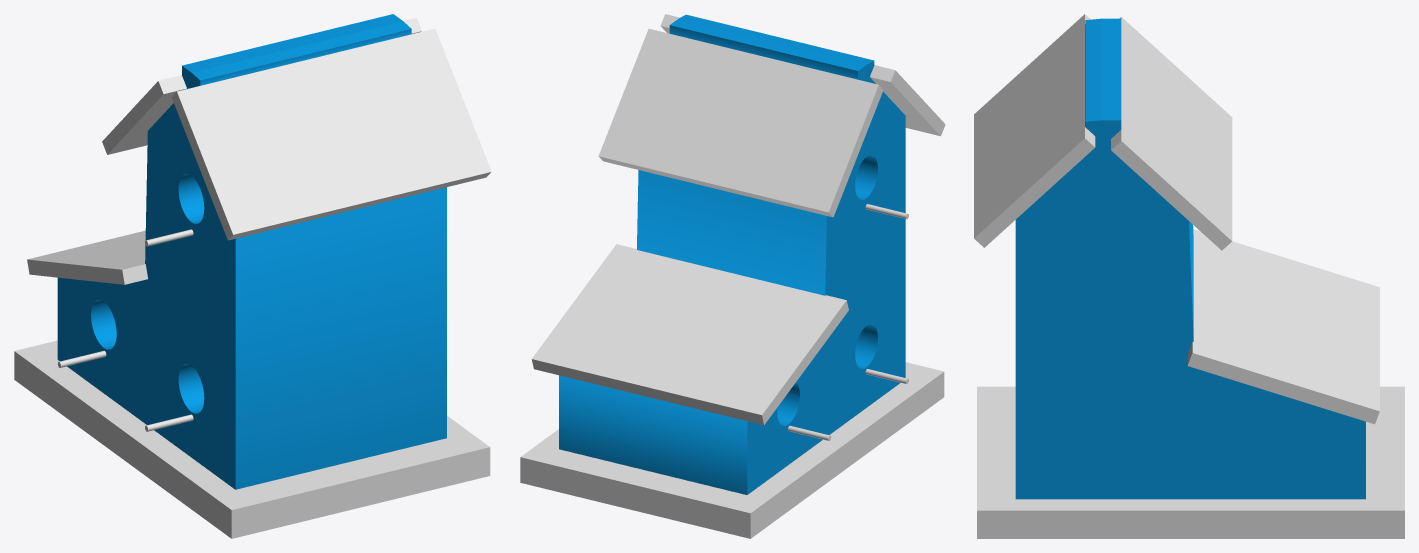
The model's file is birdhouse.fbx.
3 views of the same model, side by side, from view 1: azimuth 30°, elevation 25°; view 2: azimuth 150°, elevation 25°; view 3: azimuth 270°, elevation 25° (orthographic). The views are drawn at different scales.
Visible parts, largest first — view 1: Cube.004, Cube.002, Cube, Cube.003, Cube.001; view 2: Cube.004, Cube.003, Cube.001, Cube, Cube.002; view 3: Cube.004, Cube.003, Cube, Cube.001, Cube.002.
Boxes of the visible parts, x1,y1,x2,y2 form: Cube.004: (57, 14, 446, 489); Cube.002: (171, 28, 491, 240); Cube: (14, 340, 490, 538); Cube.003: (27, 230, 147, 284); Cube.001: (102, 17, 421, 154); Cube.004: (559, 14, 905, 494); Cube.003: (531, 244, 848, 425); Cube.001: (598, 28, 883, 217); Cube: (520, 362, 944, 538); Cube.002: (660, 14, 945, 136); Cube.004: (1015, 18, 1365, 499); Cube.003: (1187, 229, 1379, 424); Cube: (977, 386, 1404, 538); Cube.001: (1111, 17, 1232, 250); Cube.002: (974, 14, 1095, 247).
Bounding box in the file's own units: 438 × 618 × 593.
